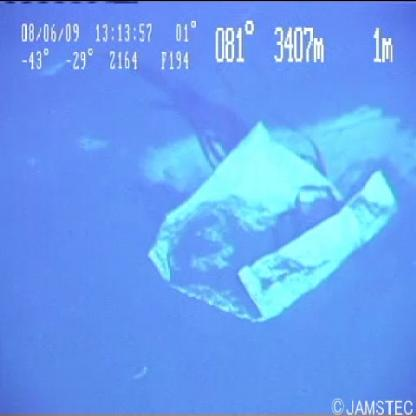Rác: (130, 98, 416, 327)
